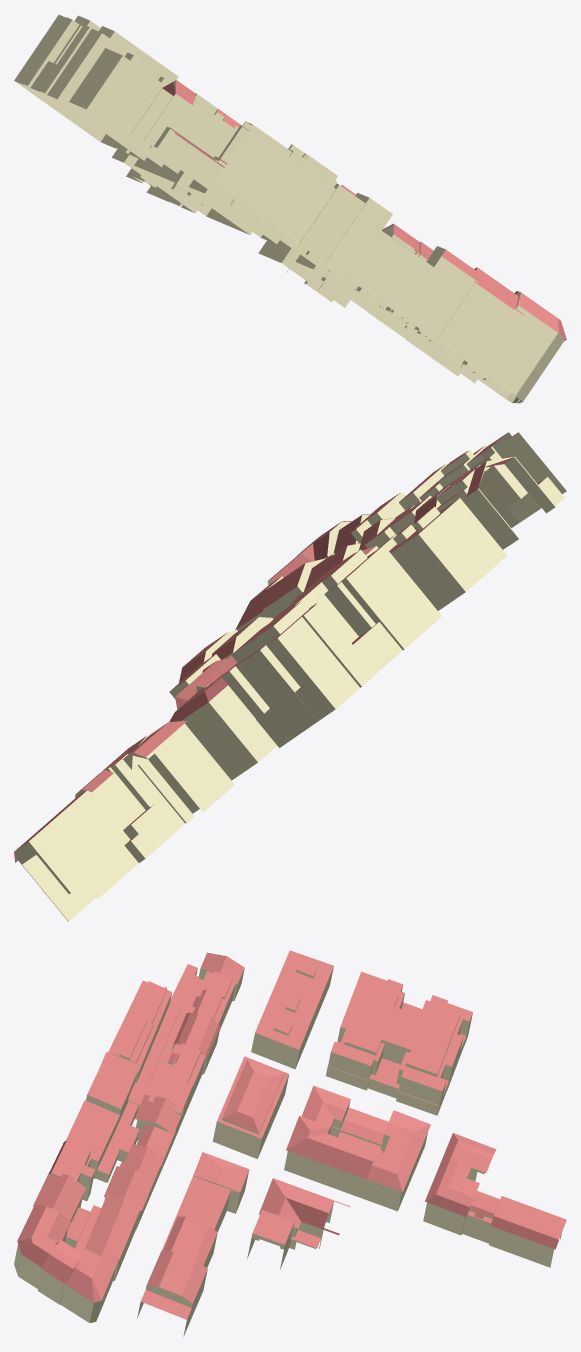
The model's file is tile_076.glb.
3 views of the same model, one above another, from view 1: azimuth 30°, elevation 25°; view 2: azimuth 150°, elevation 25°; view 3: azimuth 270°, elevation 25° (orthographic). The views are drawn at different scales.
Parts seen in each view (by area): view 1: Batched_Building_ID_7CFAE413-0A84-4B2B-8C78-43F9DCA553F8; view 2: Batched_Building_ID_7CFAE413-0A84-4B2B-8C78-43F9DCA553F8; view 3: Batched_Building_ID_7CFAE413-0A84-4B2B-8C78-43F9DCA553F8.
Part boxes in pixels (x1,y1,x2,y2): Batched_Building_ID_7CFAE413-0A84-4B2B-8C78-43F9DCA553F8: (14, 14, 566, 403); Batched_Building_ID_7CFAE413-0A84-4B2B-8C78-43F9DCA553F8: (14, 432, 566, 921); Batched_Building_ID_7CFAE413-0A84-4B2B-8C78-43F9DCA553F8: (14, 950, 566, 1336).
Size of the model in its own units: 122 by 113 by 202.
